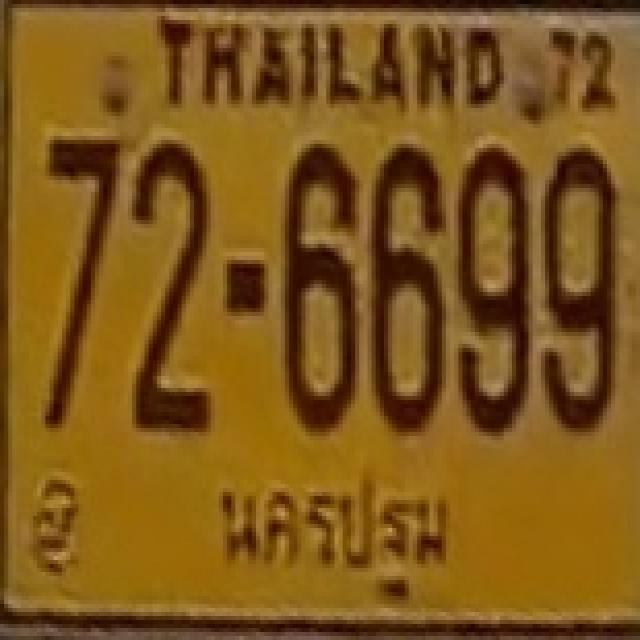0: (128, 138, 206, 314), (541, 144, 615, 324), (456, 146, 526, 322)
7: (45, 138, 120, 282)
NPT: (204, 460, 467, 611)
